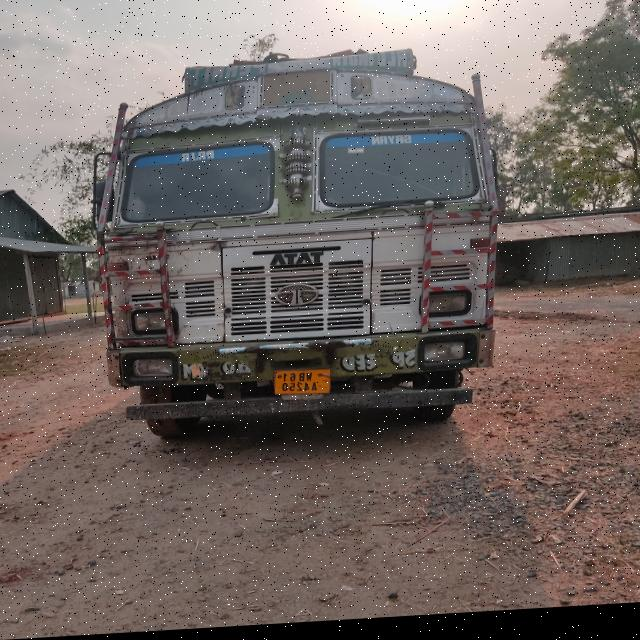plate: (272, 371, 332, 403)
